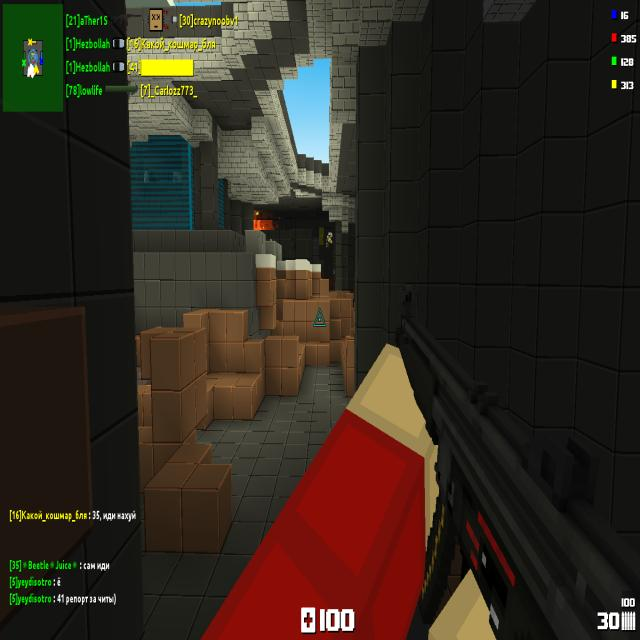enemy: (326, 232, 332, 249)
